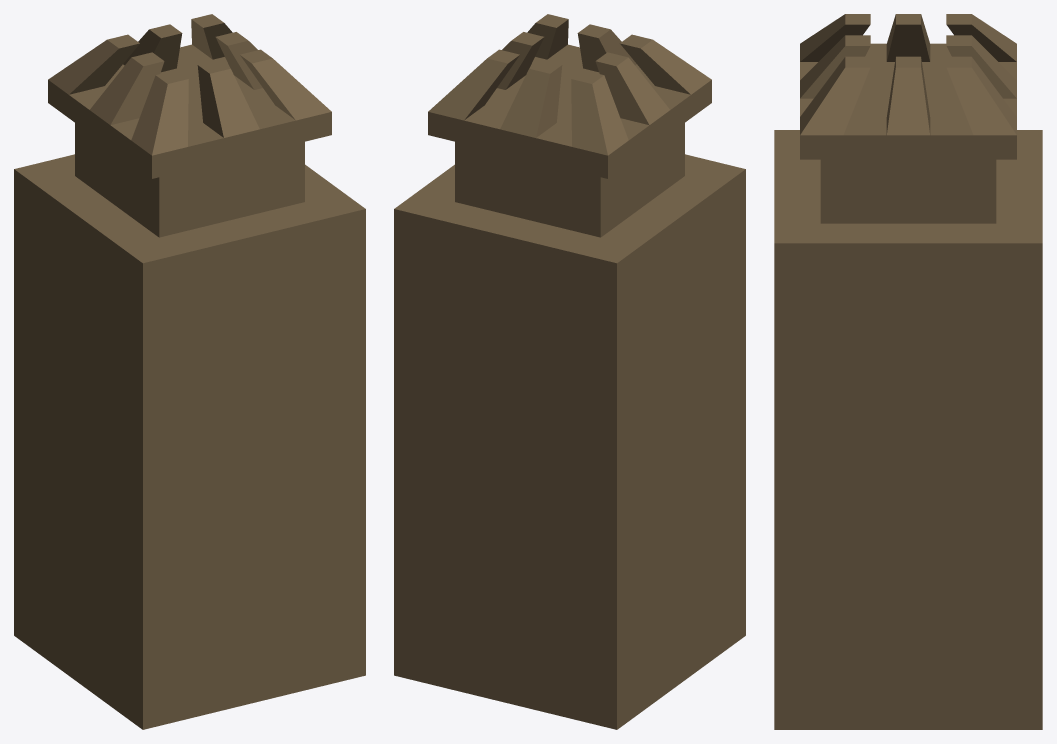
File: queen_black.fbx
3 views of the same model, side by side, from view 1: azimuth 30°, elevation 25°; view 2: azimuth 150°, elevation 25°; view 3: azimuth 270°, elevation 25° (orthographic). The views are drawn at different scales.
Parts seen in each view (by area): view 1: Cube.011; view 2: Cube.011; view 3: Cube.011.
Boxes of the visible parts, x1,y1,x2,y2 form: Cube.011: [14, 14, 365, 729]; Cube.011: [394, 14, 745, 729]; Cube.011: [774, 14, 1042, 729].
Bounding box in the file's own units: 2.8 × 7.27 × 2.8.
